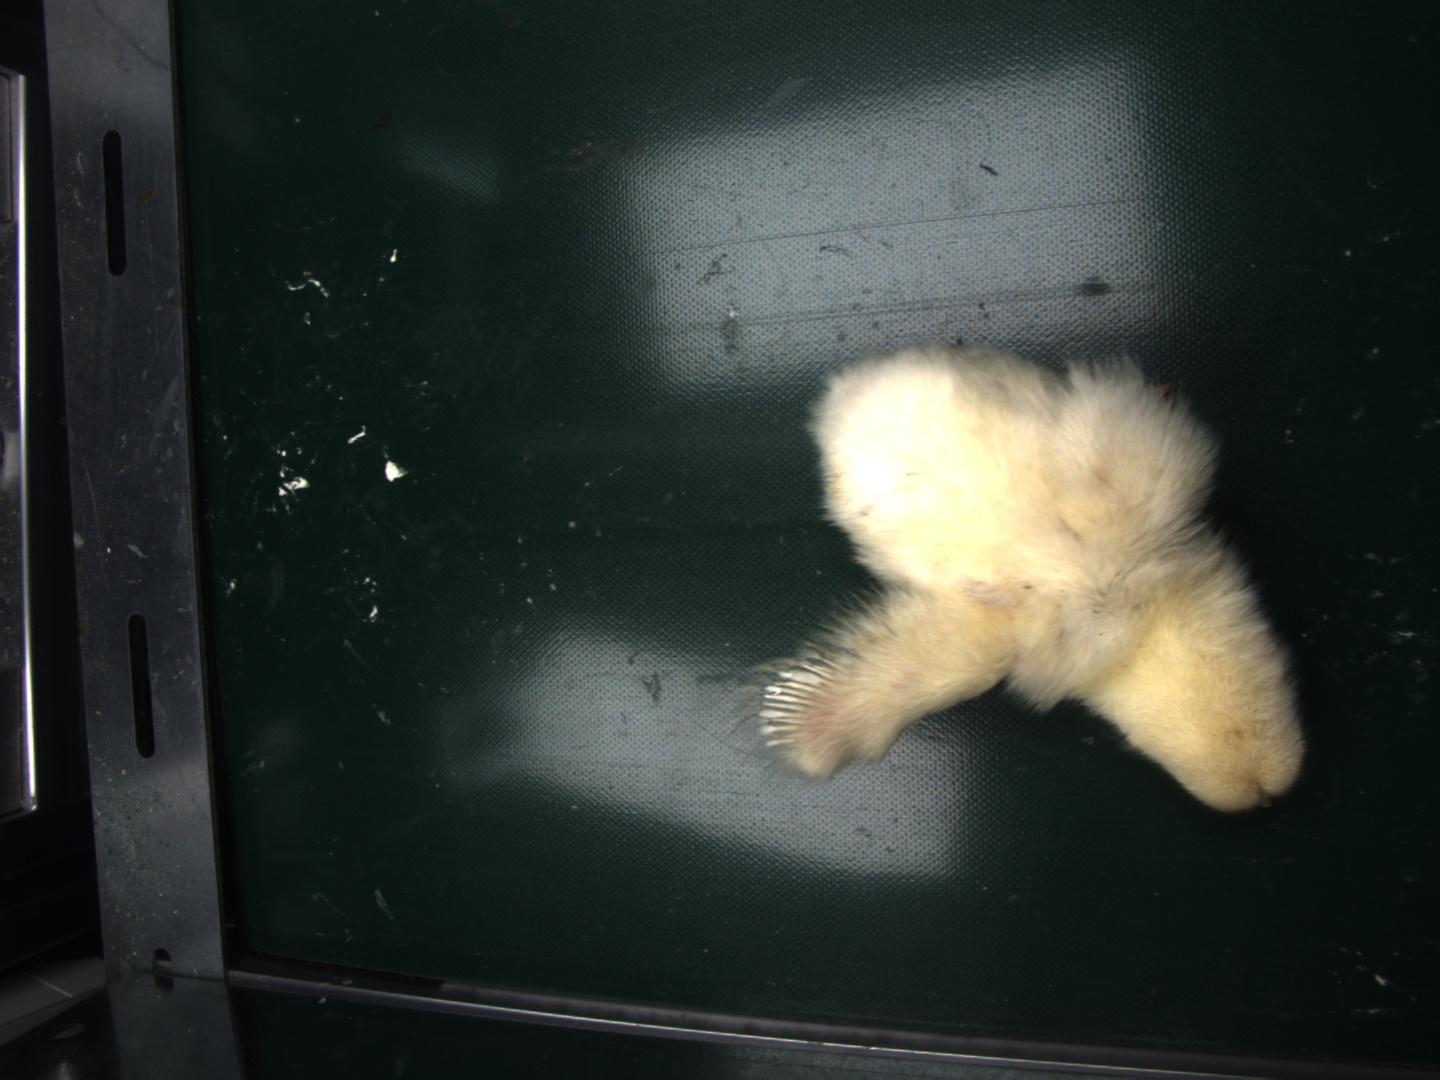male: (760, 663, 822, 751)
